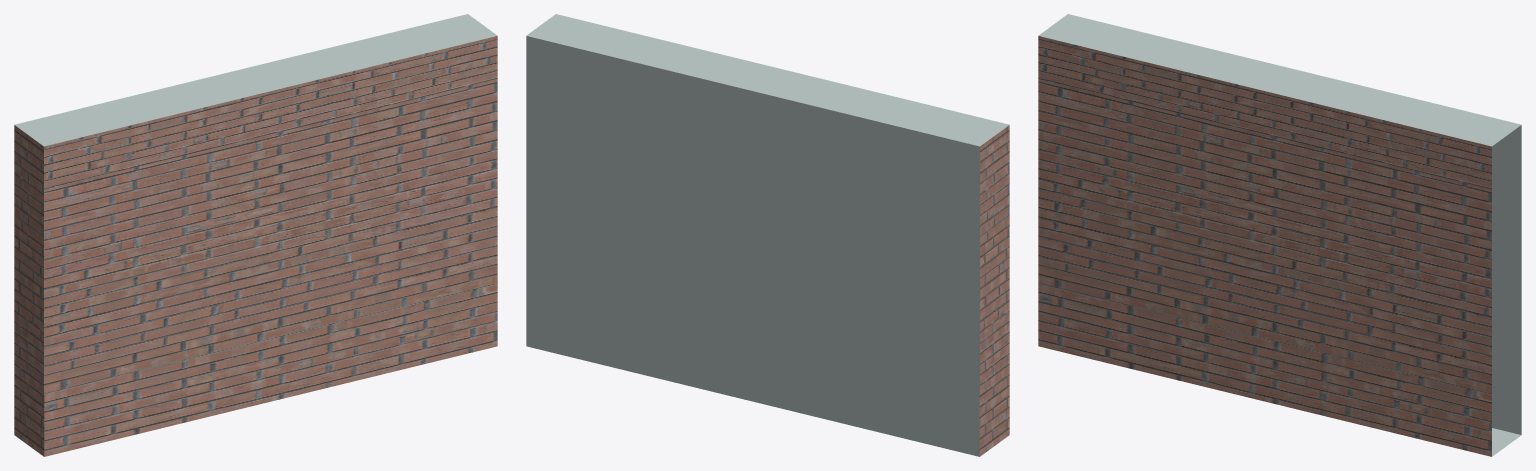
File: PareteCucinaSinistra.dae
3 views of the same model, side by side, from view 1: azimuth 30°, elevation 25°; view 2: azimuth 150°, elevation 25°; view 3: azimuth 330°, elevation 25° (orthographic).
Parts seen in each view (by area): view 1: PareteSinistra_001_002; view 2: PareteSinistra_001_002; view 3: PareteSinistra_001_002.
Boxes of the visible parts, box(x1,y1,x2,y2) form: PareteSinistra_001_002: box(14, 14, 497, 456); PareteSinistra_001_002: box(526, 14, 1009, 456); PareteSinistra_001_002: box(1038, 14, 1521, 456).
Size of the model in its own units: 3.52 by 0.4001 by 2.3.
